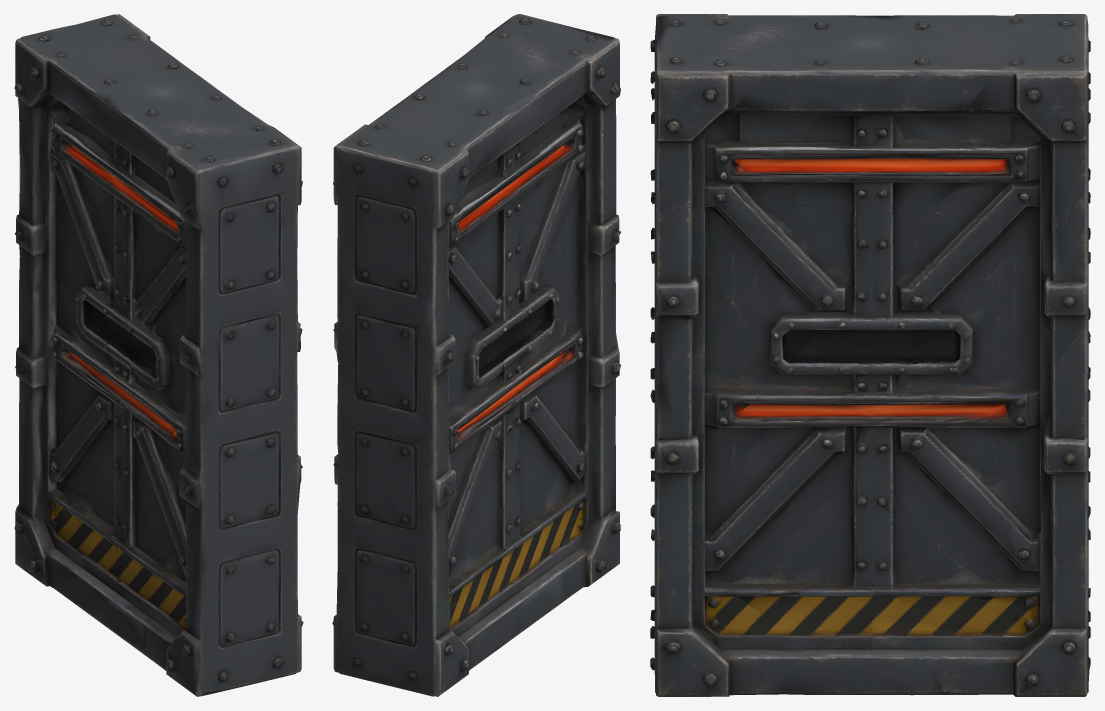
Rendered from prop_door.glb.
3 views of the same model, side by side, from view 1: azimuth 30°, elevation 25°; view 2: azimuth 150°, elevation 25°; view 3: azimuth 270°, elevation 25° (orthographic). The views are drawn at different scales.
Parts seen in each view (by area): view 1: tripo_node_2b7191d8-86d5-4a8a-a80c-21a55ee93d8a; view 2: tripo_node_2b7191d8-86d5-4a8a-a80c-21a55ee93d8a; view 3: tripo_node_2b7191d8-86d5-4a8a-a80c-21a55ee93d8a.
Boxes of the visible parts, <box> form: tripo_node_2b7191d8-86d5-4a8a-a80c-21a55ee93d8a: <box>14,14,303,696</box>; tripo_node_2b7191d8-86d5-4a8a-a80c-21a55ee93d8a: <box>332,14,620,696</box>; tripo_node_2b7191d8-86d5-4a8a-a80c-21a55ee93d8a: <box>650,14,1090,696</box>.
Bounding box in the file's own units: 0.2282 × 0.981 × 0.6184.
1 material, 1 textured.
